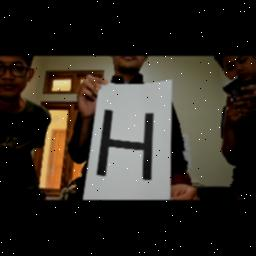h: (94, 106, 160, 184)
